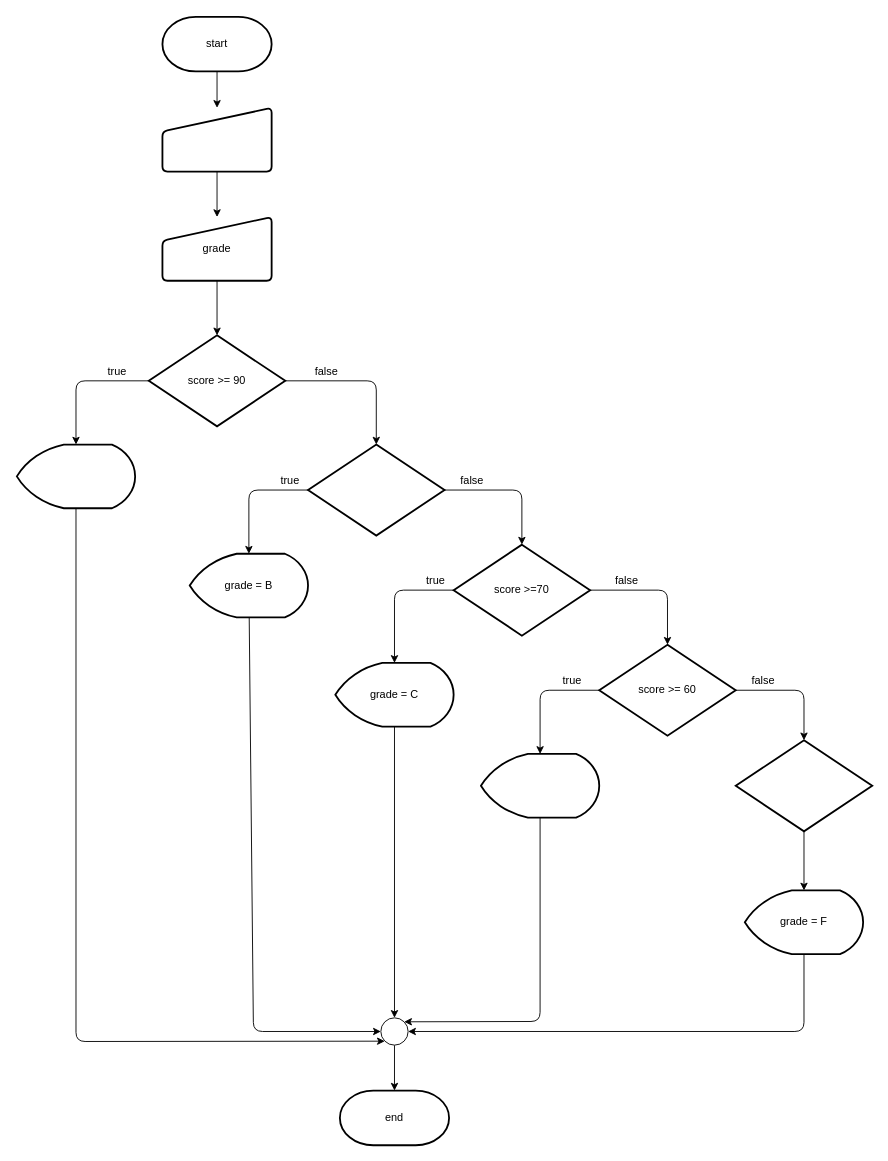
The diagram is 888 pixels wide and 1161 high, and some of its shapes have lost their labels. The shapes that lost their labels are listed below. From the top down, each one's box as (x1, y1, x2, y2) in pixels, then its label:
(161, 106, 272, 172): test score
(15, 443, 136, 509): grade = A
(307, 443, 445, 536): score >= 80
(480, 753, 600, 818): grade = D
(734, 739, 873, 832): score < 60
